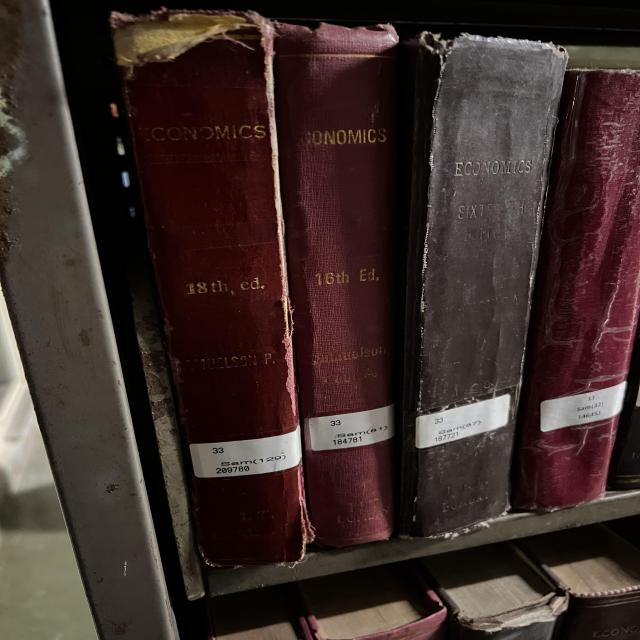Book: (112, 10, 313, 566), (398, 32, 567, 536), (275, 24, 398, 546), (512, 70, 640, 510), (420, 542, 568, 640), (518, 524, 640, 640), (298, 564, 447, 640), (208, 585, 303, 640)
Label: (190, 426, 302, 478), (415, 394, 510, 449), (540, 381, 627, 432), (305, 405, 395, 451)
